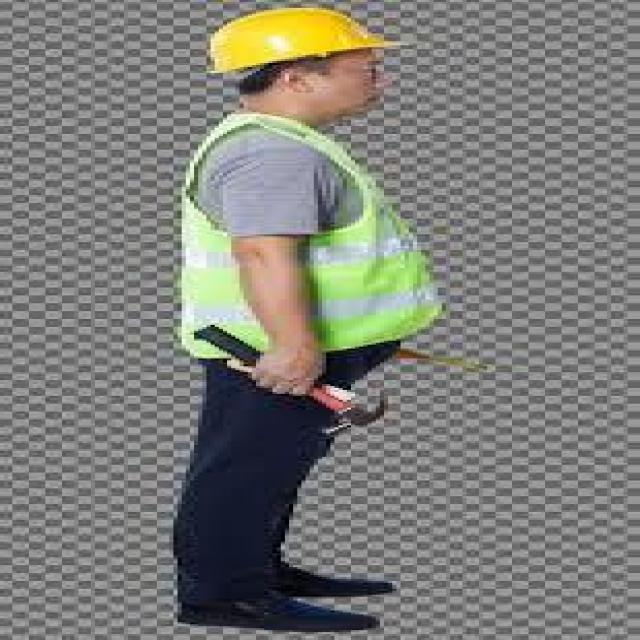safety_helmet: (175, 110, 447, 372)
